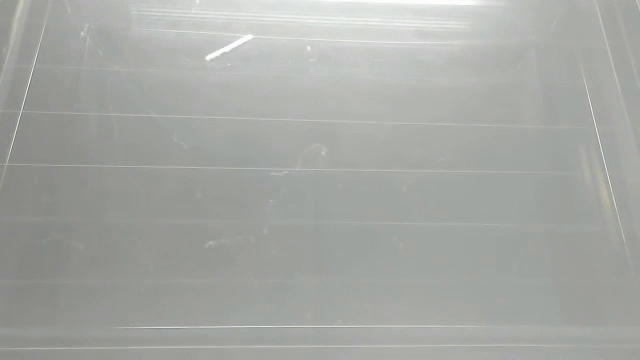alpha: (201, 33, 259, 63)
